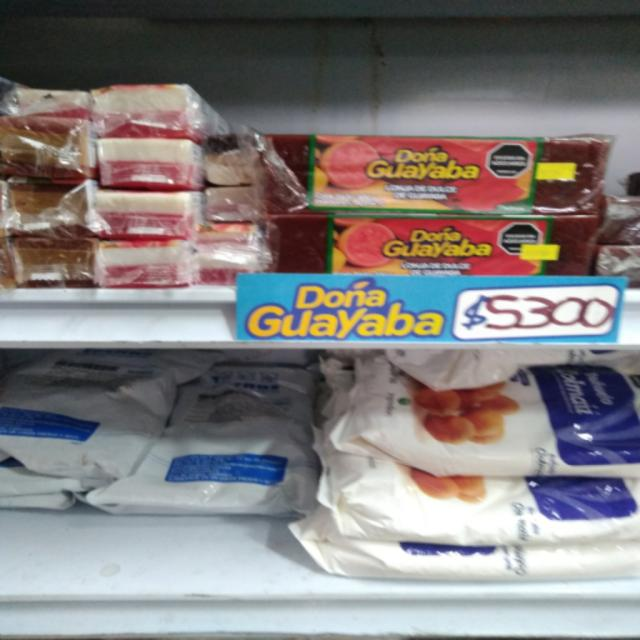Guayaba_barra: (263, 137, 608, 214), (278, 212, 602, 279)
Precio: (455, 287, 619, 345)
